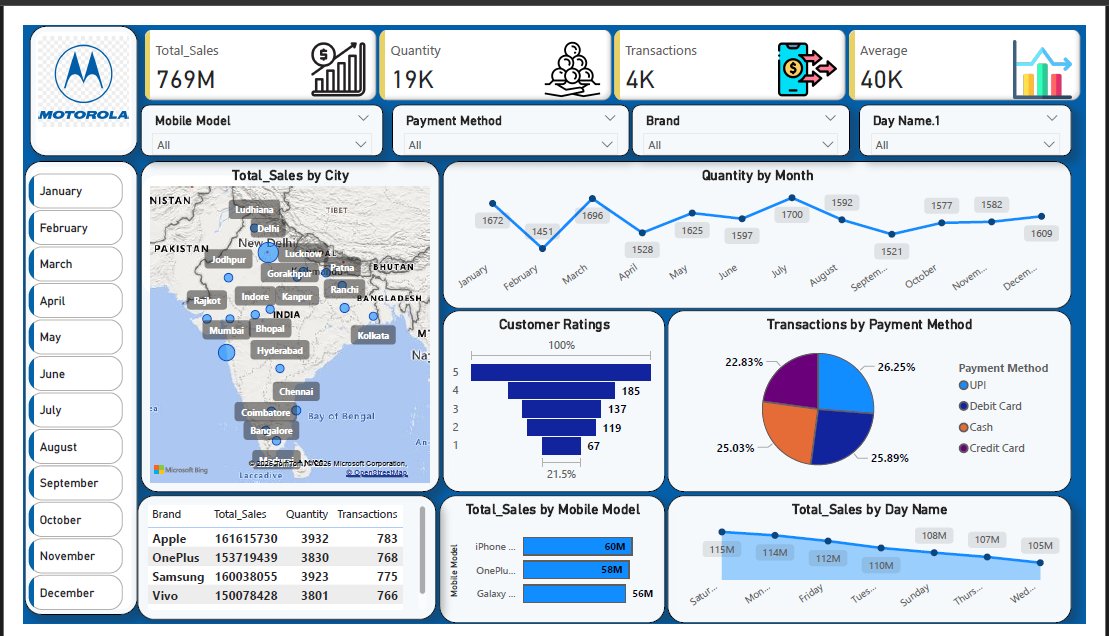

Layout of this report page (visuals, bound fields, positions):
{"tool":"powerbi","page":{"name":"Page 1","canvas":[1280,720],"ordinal":0},"visuals":[{"type":"shape","box":[7.2,0,129.6,157],"z":0},{"type":"shape","box":[141.1,178.6,129.6,146.9],"z":1000},{"type":"image","box":[13,0,118.1,133.9],"z":2000},{"type":"shape","box":[1.4,162.7,135.4,547.2],"z":3000},{"type":"advancedSlicerVisual","fields":{"Values":["Sales_Data.Date.Variation.Date Hierarchy.Month"]},"box":[1.4,172.8,123.8,537.1],"z":4000},{"type":"cardVisual","fields":{"Data":["Sales_Data.Total_Sales","Sales_Data.Quantity","Sales_Data.Transactions","Sales_Data.Average"]},"box":[141.4,0,1138.6,95.7],"z":5000},{"type":"map","fields":{"Category":["Sales_Data.City"],"Size":["Sales_Data.Total_Sales"]},"box":[141.1,162.7,360,398.9],"z":6000},{"type":"lineChart","fields":{"Category":["Sales_Data.Date.Variation.Date Hierarchy.Month","Sales_Data.Date.Variation.Date Hierarchy.Day"],"Y":["Sales_Data.Quantity"]},"box":[505.4,162.7,757.4,178.6],"z":7000},{"type":"clusteredBarChart","fields":{"Category":["Sales_Data.Mobile Model"],"Y":["Sales_Data.Total_Sales"]},"box":[501.1,565.9,272.2,154.1],"z":8000},{"type":"pieChart","fields":{"Category":["Sales_Data.Payment Method"],"Y":["Sales_Data.Transactions"]},"box":[776.2,342.7,486.7,218.9],"z":9000},{"type":"funnel","title":" Customer Ratings","fields":{"Category":["Sales_Data.Customer Ratings"],"Y":["CountNonNull(Sales_Data.Customer Ratings)"]},"box":[505.4,342.7,267.8,218.9],"z":10000},{"type":"areaChart","title":"Total_Sales by Day Name","fields":{"Category":["Sales_Data.Day Name.1"],"Y":["Sales_Data.Total_Sales"]},"box":[776.2,565.9,486.7,154.1],"z":11000},{"type":"tableEx","fields":{"Values":["Sales_Data.Brand","Sales_Data.Total_Sales","Sales_Data.Quantity","Sales_Data.Transactions"]},"box":[136.8,565.9,360,149.8],"z":12000},{"type":"slicer","fields":{"Values":["Sales_Data.Mobile Model"]},"box":[141.1,95,292.3,61.9],"z":13000},{"type":"slicer","fields":{"Values":["Sales_Data.Payment Method"]},"box":[443.5,95,286.6,61.9],"z":14000},{"type":"slicer","fields":{"Values":["Sales_Data.Brand"]},"box":[733,95,263.5,61.9],"z":15000},{"type":"slicer","fields":{"Values":["Sales_Data.Day Name.1"]},"box":[1006.6,95,256.3,61.9],"z":16000}]}

Visuals, with their boxes in screenshot pixels (x1, y1, x2, y2), scaled from the page's 1280x720 canvas onto the 1109x636 screenshot:
shape: (6,0,119,139)
shape: (122,158,235,288)
image: (11,0,114,118)
shape: (1,144,119,627)
advancedSlicerVisual - Sales_Data.Date.Variation.Date Hierarchy.Month: (1,153,108,627)
cardVisual - Sales_Data.Total_Sales x Sales_Data.Quantity: (123,0,1108,85)
map - Sales_Data.City x Sales_Data.Total_Sales: (122,144,434,496)
lineChart - Sales_Data.Date.Variation.Date Hierarchy.Month x Sales_Data.Date.Variation.Date Hierarchy.Day: (438,144,1094,301)
clusteredBarChart - Sales_Data.Mobile Model x Sales_Data.Total_Sales: (434,500,670,635)
pieChart - Sales_Data.Payment Method x Sales_Data.Transactions: (673,303,1094,496)
" Customer Ratings" funnel: (438,303,670,496)
"Total_Sales by Day Name" areaChart: (673,500,1094,635)
tableEx - Sales_Data.Brand x Sales_Data.Total_Sales: (119,500,430,632)
slicer - Sales_Data.Mobile Model: (122,84,376,139)
slicer - Sales_Data.Payment Method: (384,84,633,139)
slicer - Sales_Data.Brand: (635,84,863,139)
slicer - Sales_Data.Day Name.1: (872,84,1094,139)
